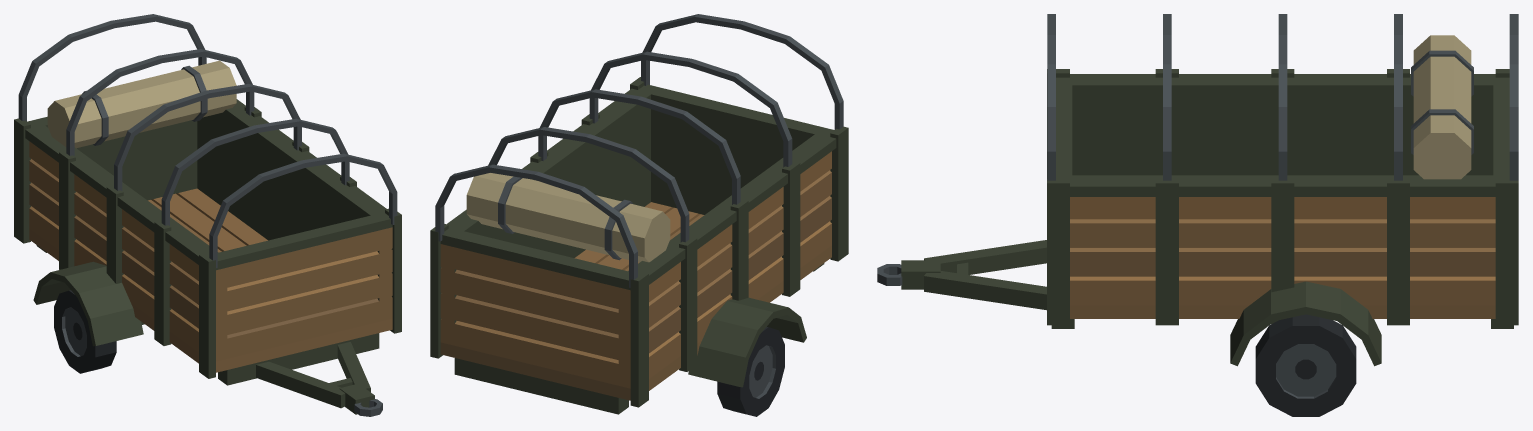
File: two-wheel-supply-trailer-90d380.glb
3 renders of one model, left to right at view 1: azimuth 30°, elevation 25°; view 2: azimuth 150°, elevation 25°; view 3: azimuth 270°, elevation 25°, orthographic. The views are drawn at different scales.
Parts seen in each view (by area): view 1: trailer-body, rolled-tilt, tyre-l; view 2: trailer-body, rolled-tilt, tyre-l; view 3: trailer-body, tyre-r, rolled-tilt.
Part boxes in pixels (x1,y1,x2,y2): trailer-body: [14, 14, 401, 416]; rolled-tilt: [47, 60, 236, 148]; tyre-l: [54, 290, 116, 373]; trailer-body: [430, 14, 848, 414]; rolled-tilt: [466, 173, 670, 262]; tyre-l: [717, 327, 784, 416]; trailer-body: [877, 14, 1518, 366]; tyre-r: [1255, 314, 1356, 416]; rolled-tilt: [1411, 35, 1473, 179].
Size of the model in its own units: 1.62 by 1.47 by 2.77.
